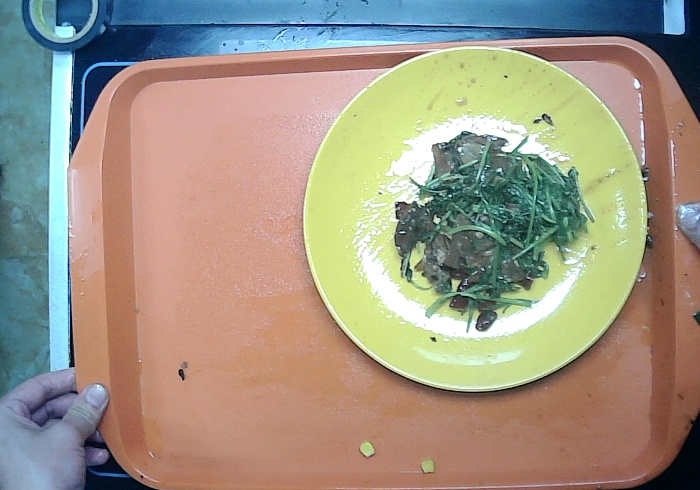HZYJPL-Huang_Se_Yuan_Pan: (292, 36, 660, 395)
